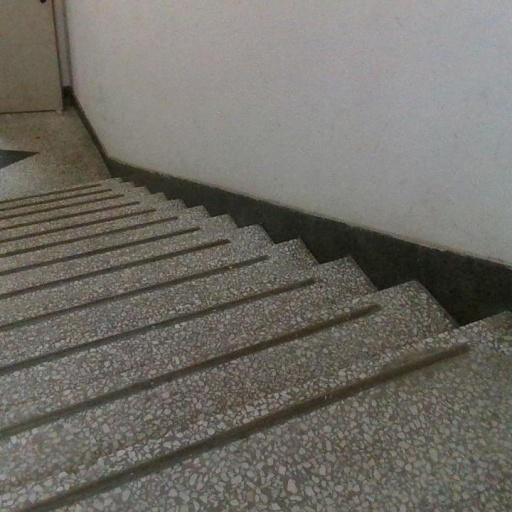stairs: (0, 180, 511, 511)
